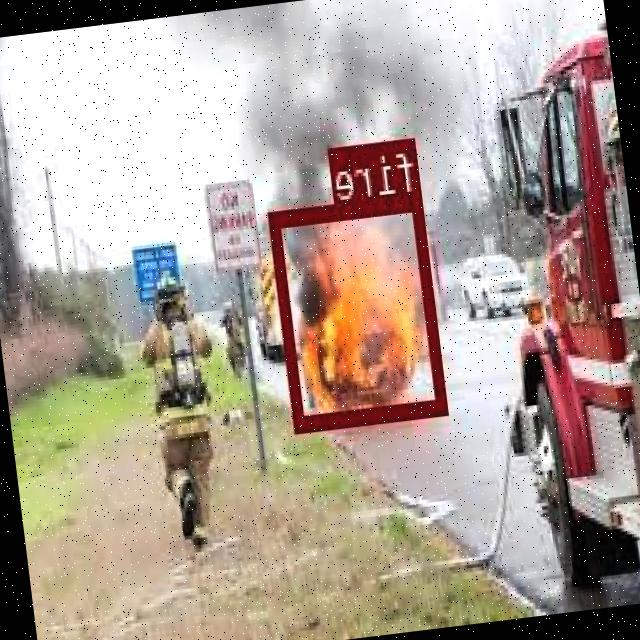fire: (271, 192, 449, 428)
